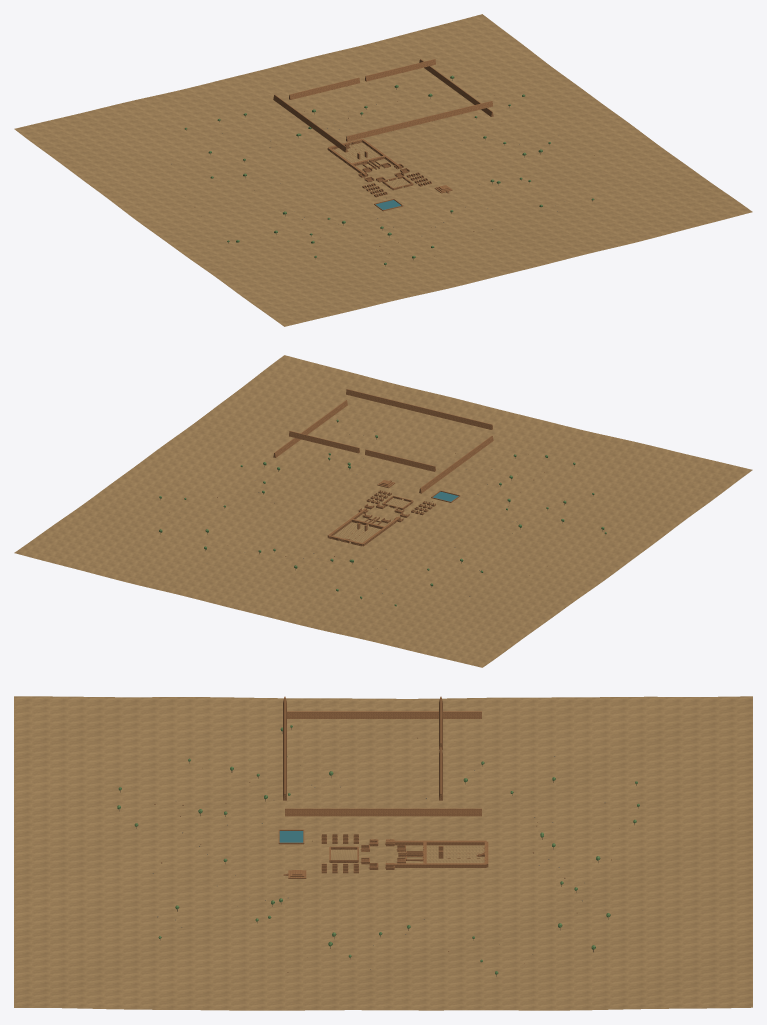
3 views of the same model, one above another, from view 1: azimuth 30°, elevation 25°; view 2: azimuth 150°, elevation 25°; view 3: azimuth 270°, elevation 25° (orthographic). The views are drawn at different scales.
Visible parts, largest first — view 1: GEO-ChanChan_LOD0_Terrain, GEO-ChanChan_LOD0_City, GEO-ChanChan_LOD0_Props; view 2: GEO-ChanChan_LOD0_Terrain, GEO-ChanChan_LOD0_City, GEO-ChanChan_LOD0_Props; view 3: GEO-ChanChan_LOD0_Terrain, GEO-ChanChan_LOD0_City, GEO-ChanChan_LOD0_Props.
Boxes of the visible parts, bbox=[...] form: GEO-ChanChan_LOD0_Terrain: bbox=[14, 14, 752, 326]; GEO-ChanChan_LOD0_City: bbox=[273, 59, 493, 211]; GEO-ChanChan_LOD0_Props: bbox=[171, 75, 594, 266]; GEO-ChanChan_LOD0_Terrain: bbox=[14, 355, 752, 667]; GEO-ChanChan_LOD0_City: bbox=[273, 389, 493, 546]; GEO-ChanChan_LOD0_Props: bbox=[159, 419, 606, 606]; GEO-ChanChan_LOD0_Terrain: bbox=[14, 696, 752, 1010]; GEO-ChanChan_LOD0_City: bbox=[278, 696, 488, 878]; GEO-ChanChan_LOD0_Props: bbox=[117, 725, 639, 976].
Size of the model in its own units: 900 by 153 by 900.
8 materials, 4 textured.
